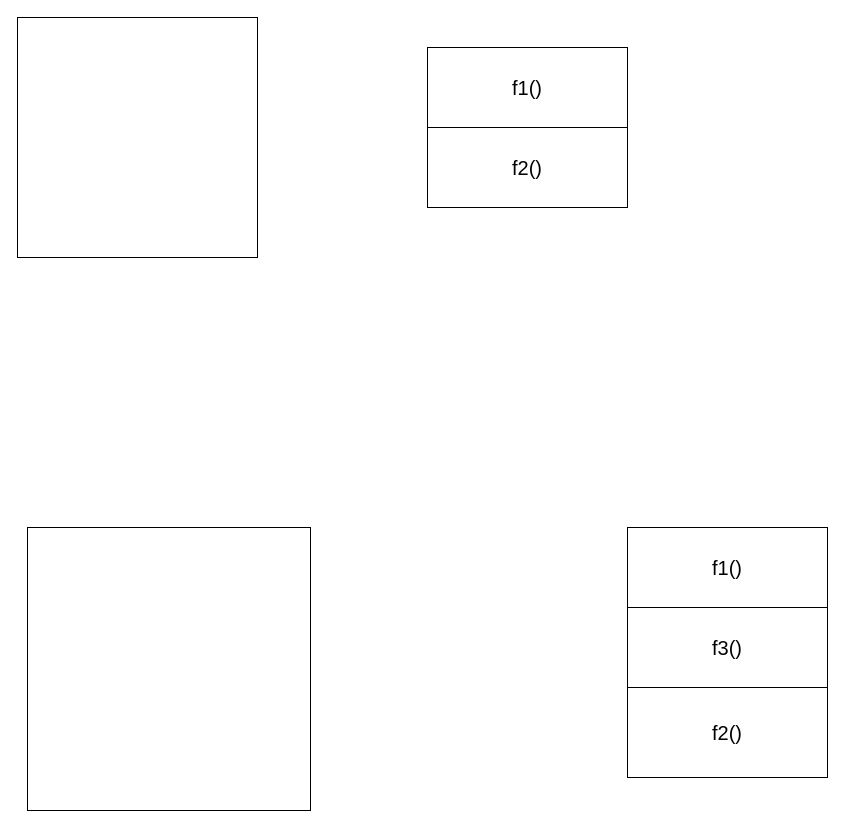
Image size: 845x828. Some labels were removed from this diagram. The shapes that lost their labels are listed below. From the top down, each one's centre as x and y in pixels, then its label:
point 137,137: function f1() {} function f2() { f1(); } f2();
point 168,668: function f1() {} function f2() {} function f3() { f1(); } f2(); f3(); f1();
